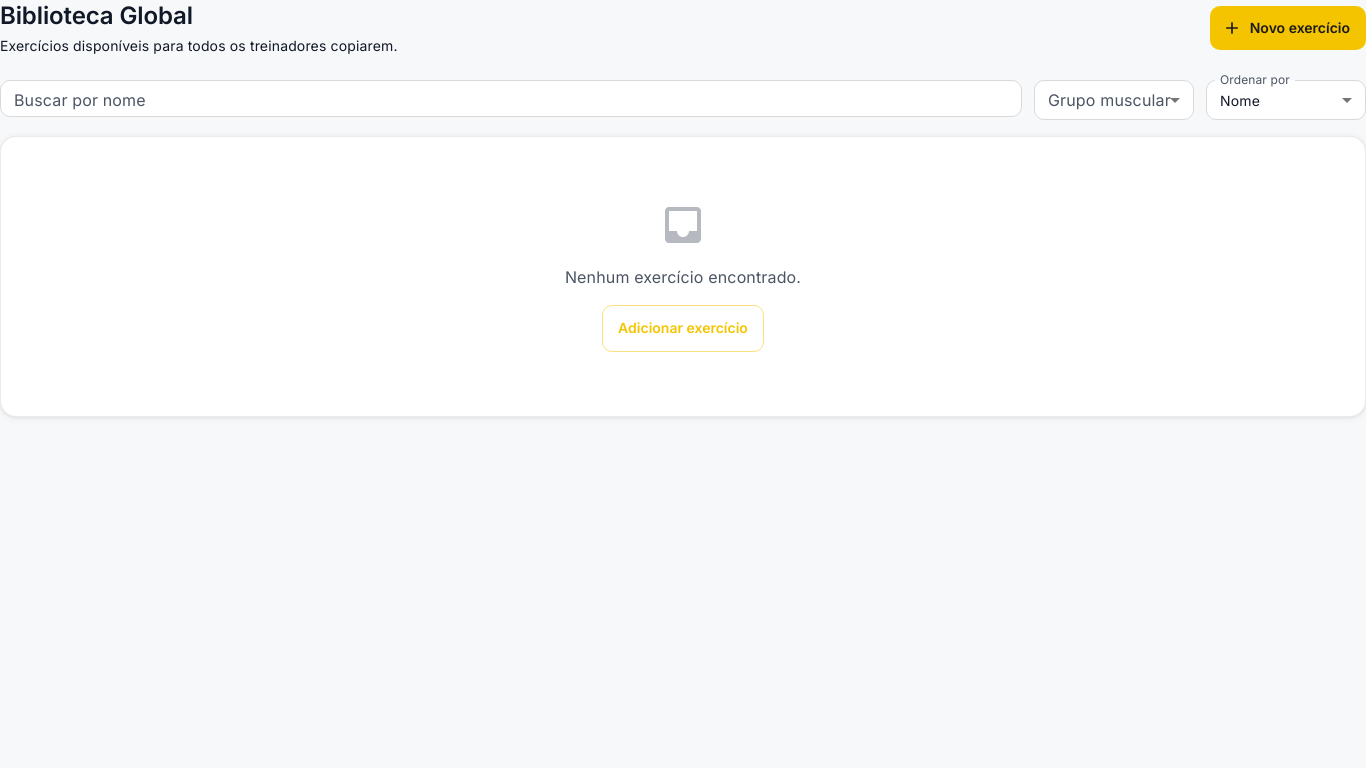
Scenario: ExerciciosAdminPage — orientação (como executar + vídeo) › link inválido desabilita submit e mostra helper
Click the button "Novo exercício".
click(1288, 28)  # box [1210,6,1365,50]
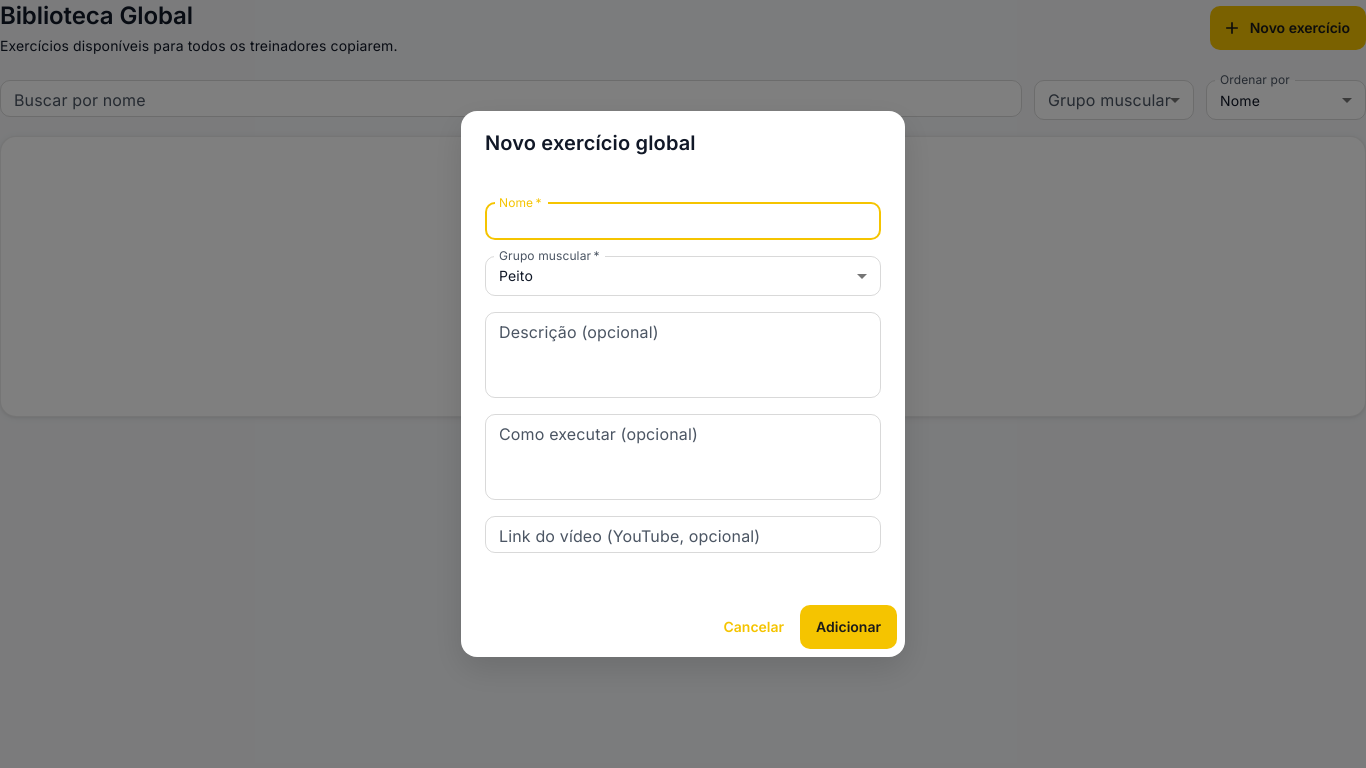
Type "Supino" into the field labelled "Nome *".
click(683, 221); type("Supino")  # box [485,203,881,240]
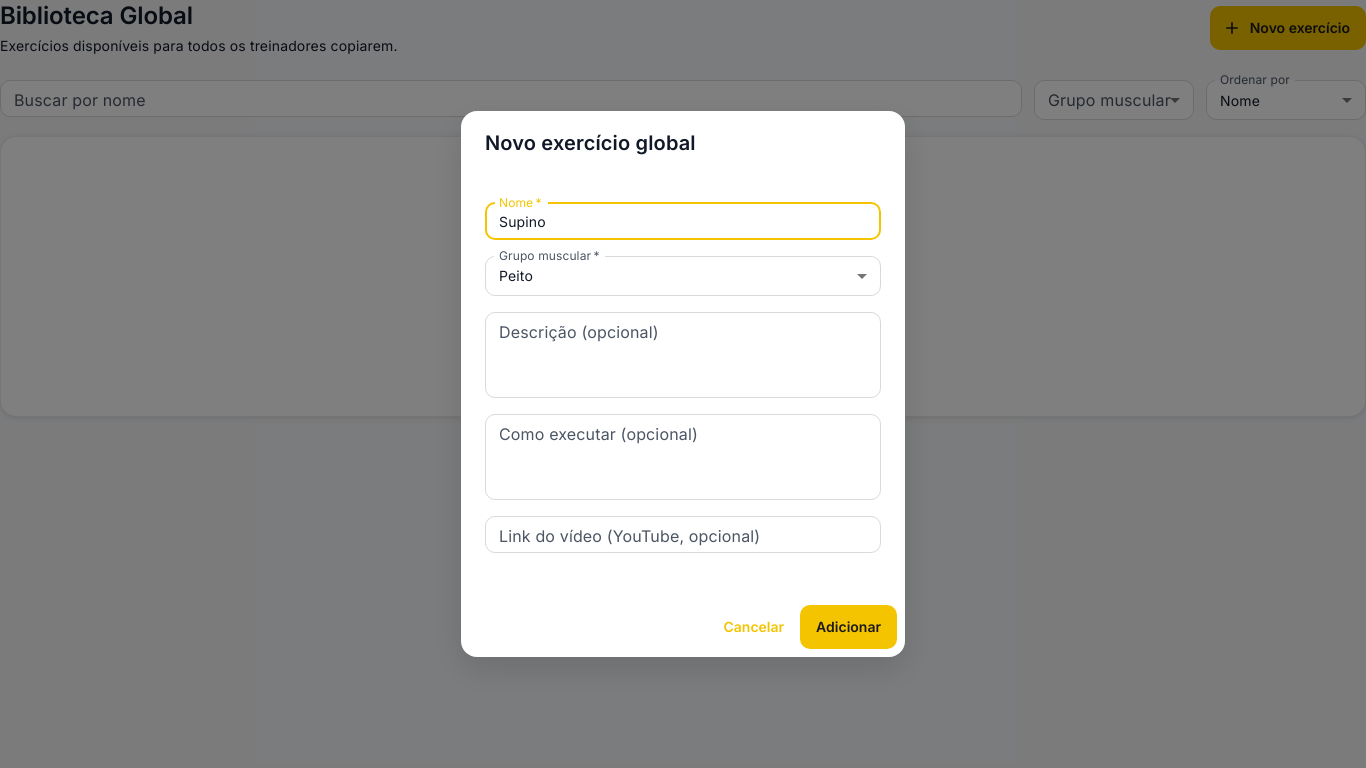
Type "não é link" into the field labelled "Link do vídeo (YouTube, opcional)".
click(683, 534); type("não é link")  # box [485,516,881,553]
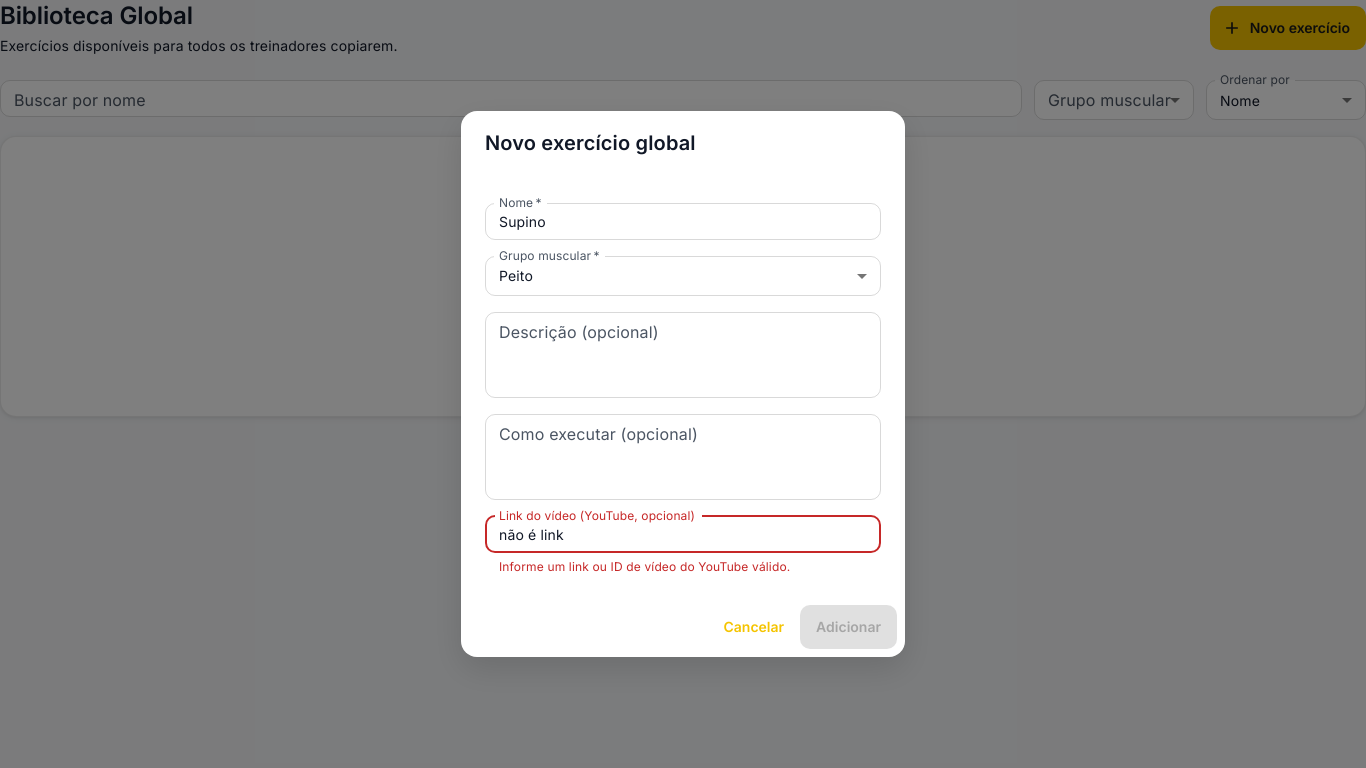
Expected: the text "Informe um link ou ID de vídeo do YouTube válido." is shown, [499,559,790,574]
Expected: the button "Adicionar" is disabled, [800,605,897,649]
